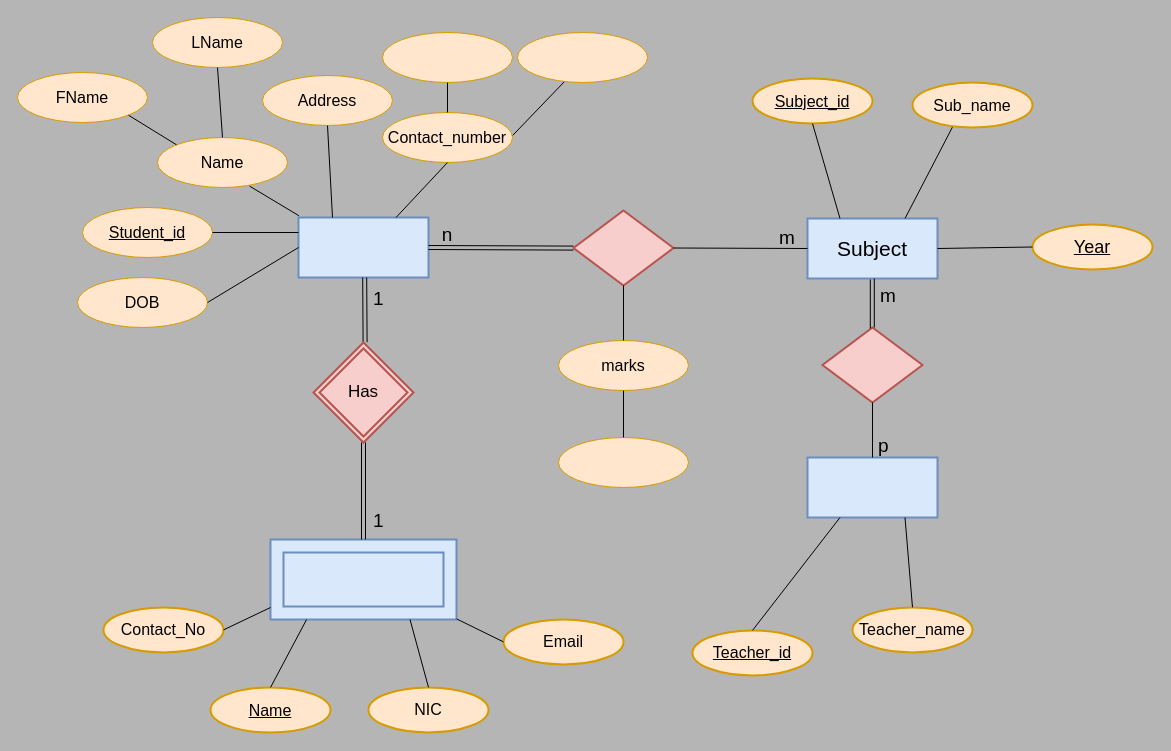
Image size: 1171x751. Some labels were removed from this diagram. Here are the shapes that lost their labels. From the top down, the centre of each, then its label:
[447,57]: Mobile
[582,57]: Fixed_line
[363,247]: Student
[623,247]: Studies
[872,364]: Teaches
[623,462]: Term
[872,487]: Teacher
[363,579]: Parent/Guardian
